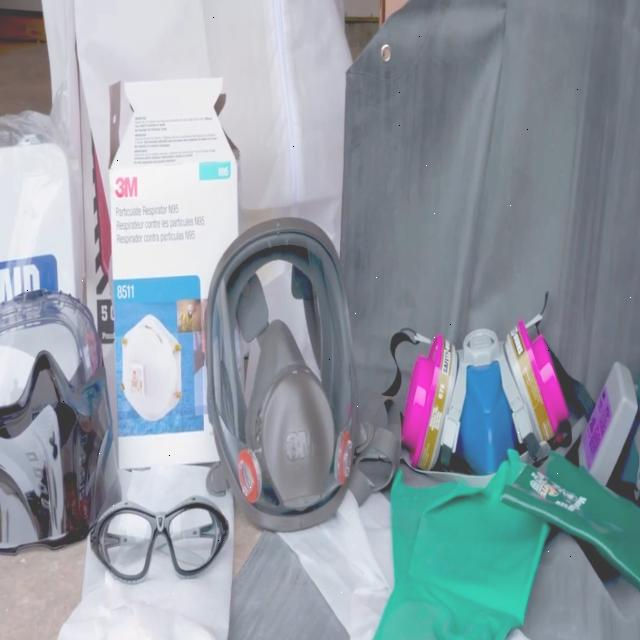Gloves: (412, 447, 548, 627), (501, 444, 640, 592), (358, 583, 511, 640), (389, 462, 456, 588)
Mask: (358, 294, 640, 496), (201, 220, 361, 530), (0, 388, 125, 547)
